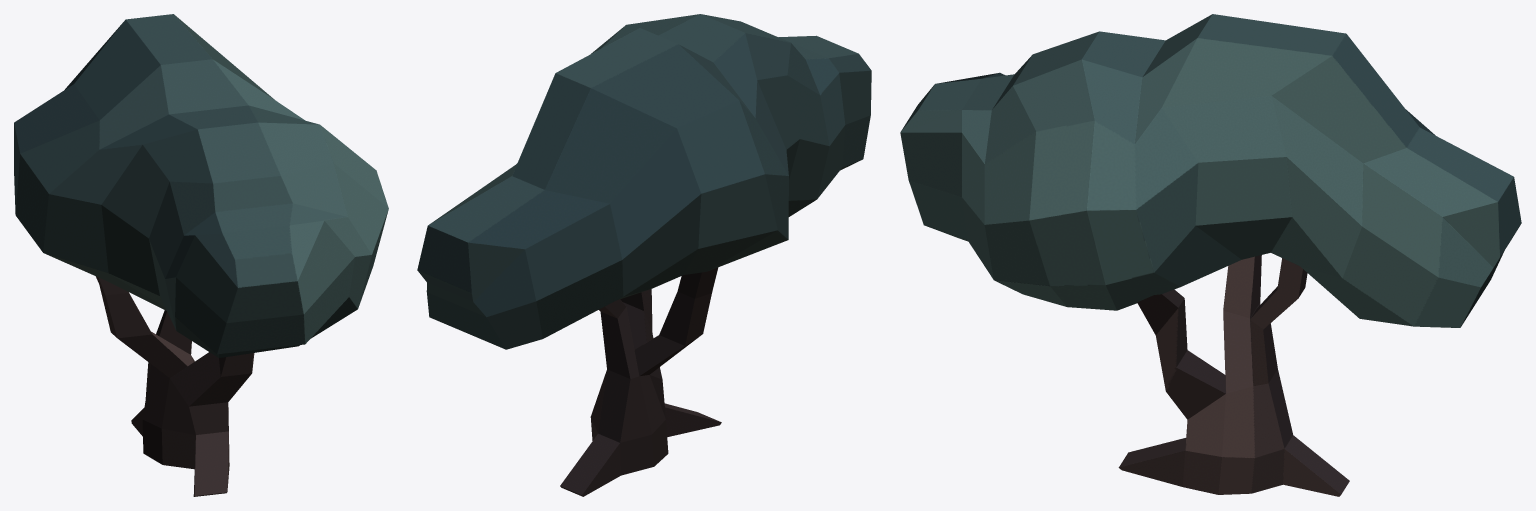
The model's file is Olive2.obj.
3 renders of one model, left to right at view 1: azimuth 30°, elevation 25°; view 2: azimuth 150°, elevation 25°; view 3: azimuth 270°, elevation 25°, orthographic. The views are drawn at different scales.
Visible parts, largest first — view 1: Olive2; view 2: Olive2; view 3: Olive2.
Boxes of the visible parts, bbox=[...] form: Olive2: bbox=[14, 14, 388, 496]; Olive2: bbox=[417, 14, 871, 496]; Olive2: bbox=[900, 14, 1521, 496].
Bounding box in the file's own units: 5.05 × 7.09 × 8.84.
2 materials, 2 textured.
